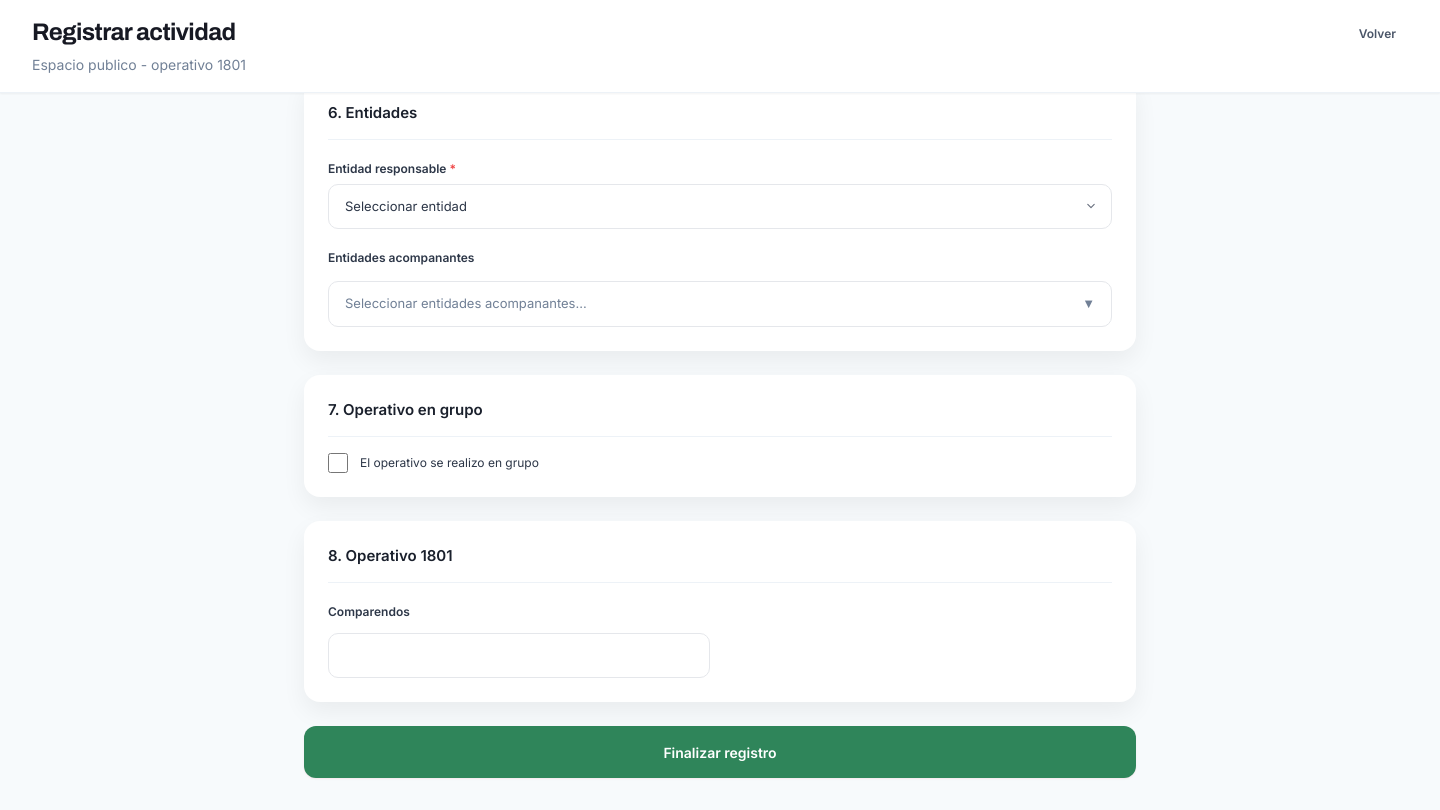
Scenario: CreateActivity › no ofrece al propio gestor como acompanante: ya es el autor
(page scrolled)
Click the checkbox labelled "El operativo se realizo en grupo" at (338, 463), box [328,453,348,473]
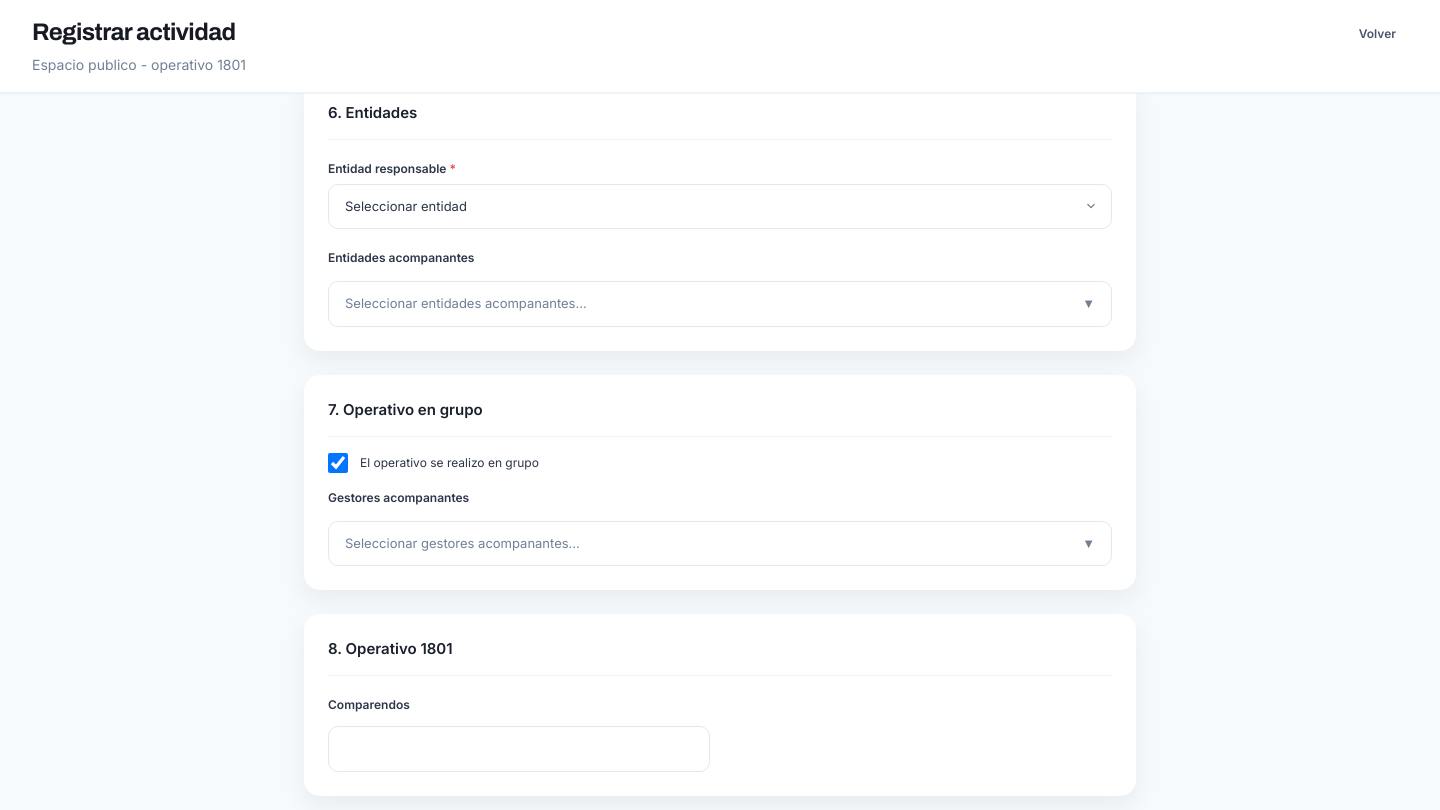
Click the button "Seleccionar gestores acompanantes... ▼" at (462, 543), box [328,521,1112,566]
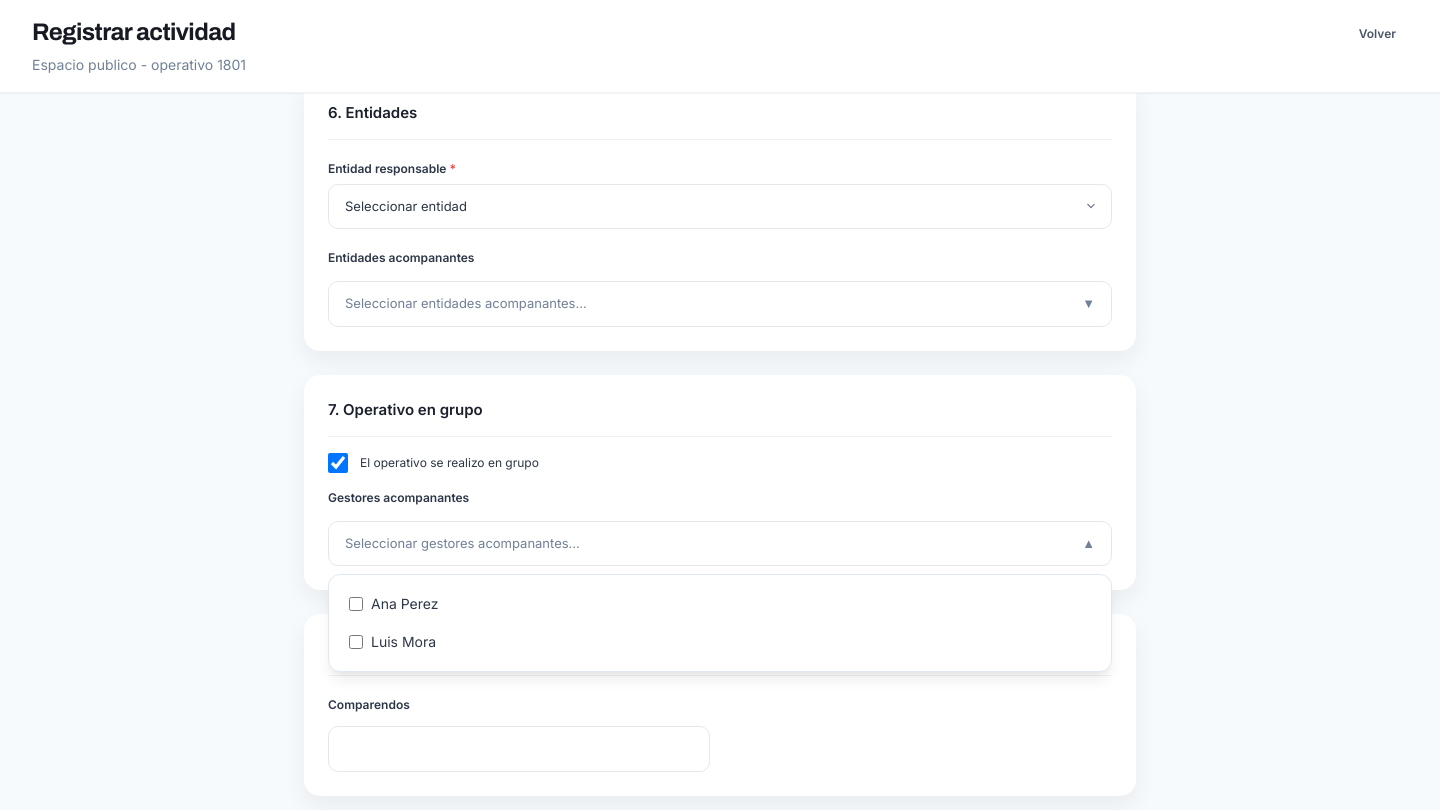
Expected: the checkbox labelled "Ana Perez" is shown, [349,597,363,611]
